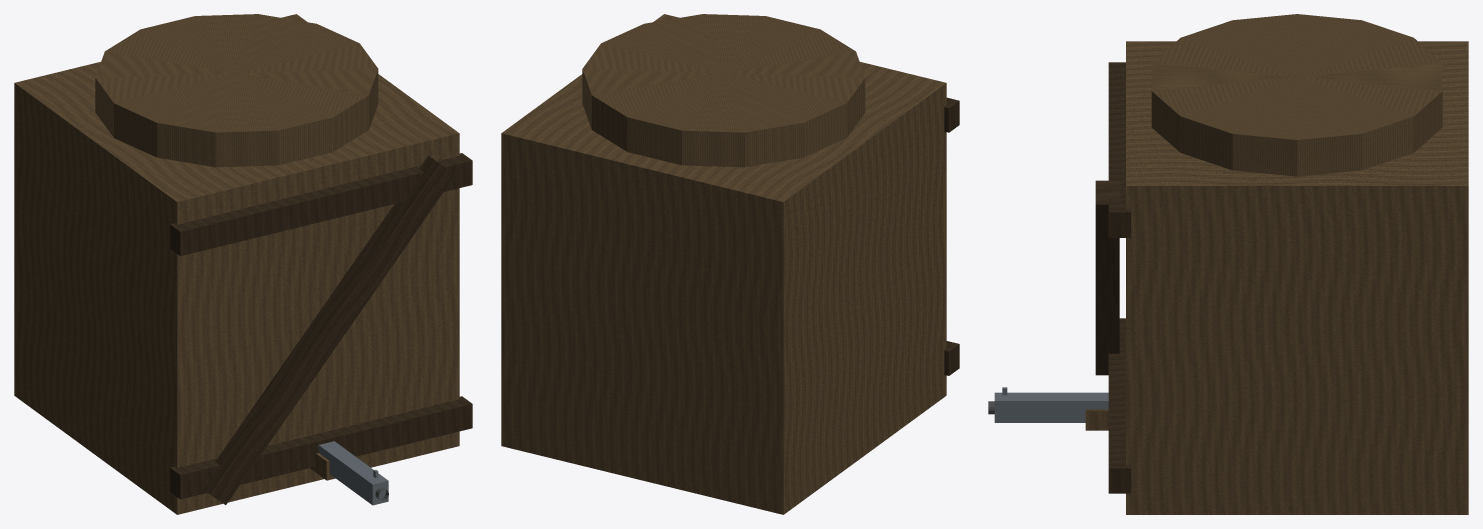
The model's file is items.glb.
3 views of the same model, side by side, from view 1: azimuth 30°, elevation 25°; view 2: azimuth 150°, elevation 25°; view 3: azimuth 270°, elevation 25° (orthographic). The views are drawn at different scales.
Parts seen in each view (by area): view 1: Crate, Barrel, Shotgun; view 2: Crate, Barrel; view 3: Crate, Barrel, Shotgun.
Part boxes in pixels (bbox=[...]): Crate: bbox=[14, 14, 472, 514]; Barrel: bbox=[95, 14, 378, 167]; Shotgun: bbox=[310, 441, 388, 505]; Crate: bbox=[501, 14, 959, 514]; Barrel: bbox=[582, 14, 865, 167]; Crate: bbox=[1095, 41, 1468, 514]; Barrel: bbox=[1151, 14, 1442, 176]; Shotgun: bbox=[988, 387, 1108, 430].
Size of the model in its own units: 0.88 by 1.1 by 1.19.
11 materials, 2 textured.
